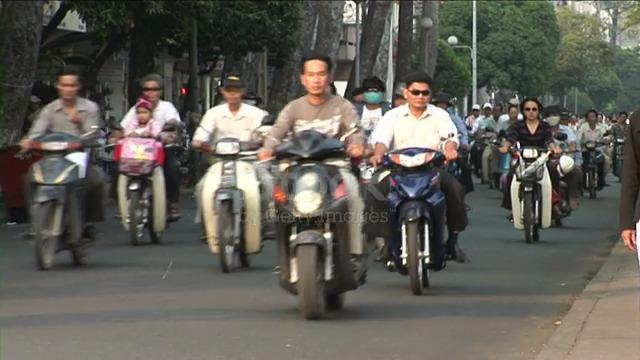nohelmet: (299, 53, 334, 98), (402, 75, 434, 112), (56, 66, 84, 102), (218, 74, 247, 105), (139, 72, 164, 104), (519, 96, 543, 123), (585, 109, 598, 125), (508, 104, 519, 121), (618, 111, 629, 124)
